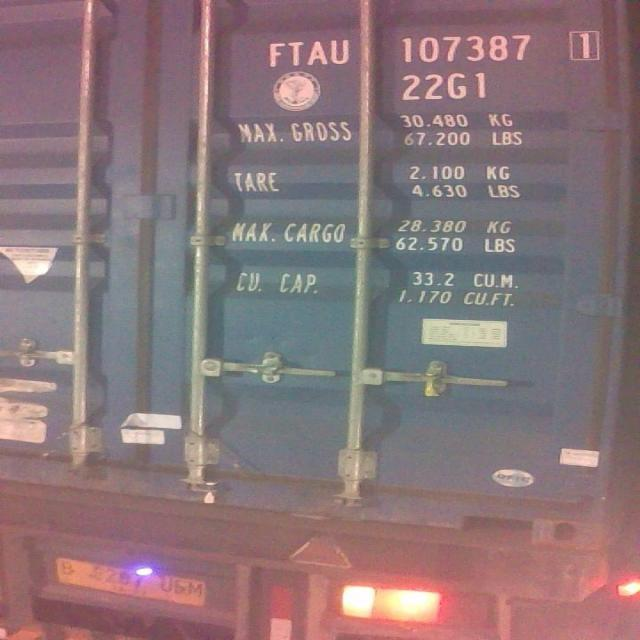seal: (421, 369, 442, 402), (199, 478, 221, 508)
